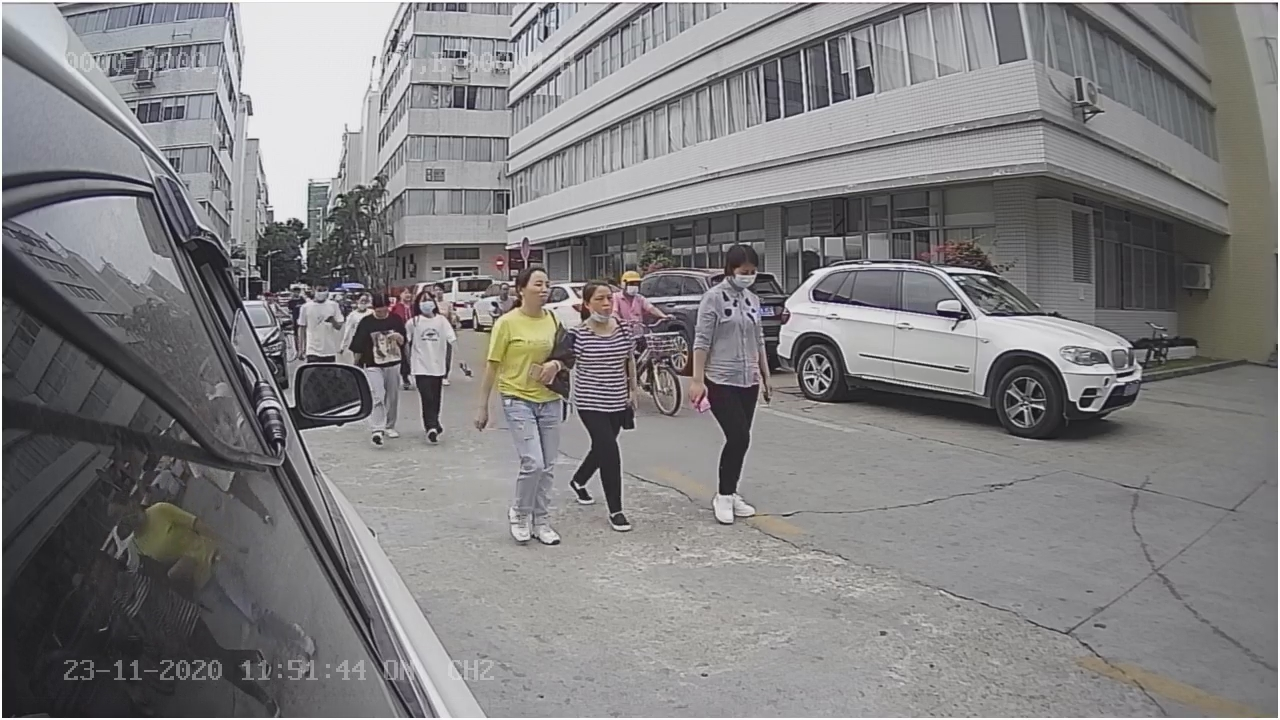person: (475, 259, 575, 545), (690, 240, 783, 531), (398, 280, 471, 445)
